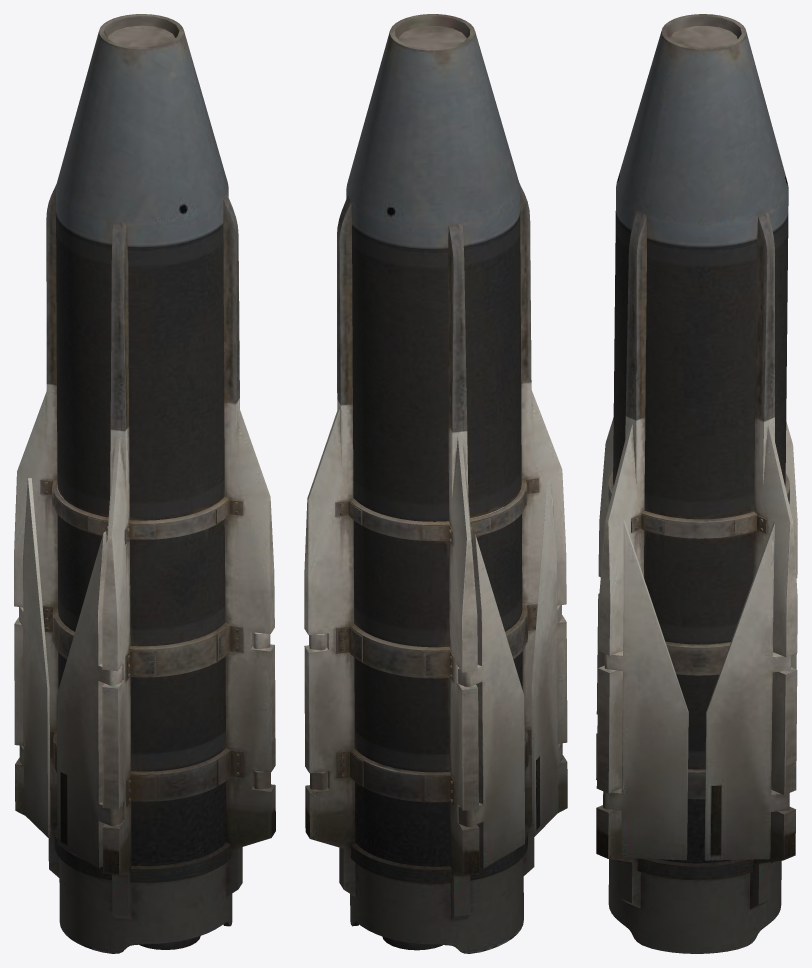
Rendered from aster30-booster.glb.
3 views of the same model, side by side, from view 1: azimuth 30°, elevation 25°; view 2: azimuth 150°, elevation 25°; view 3: azimuth 270°, elevation 25° (orthographic).
Parts seen in each view (by area): view 1: aster30booster; view 2: aster30booster; view 3: aster30booster.
Part boxes in pixels (bbox=[...]): aster30booster: bbox=[14, 14, 275, 953]; aster30booster: bbox=[304, 14, 567, 953]; aster30booster: bbox=[596, 14, 797, 953].
Size of the model in its own units: 0.4657 by 2.13 by 0.4388.
1 material, 1 textured.
